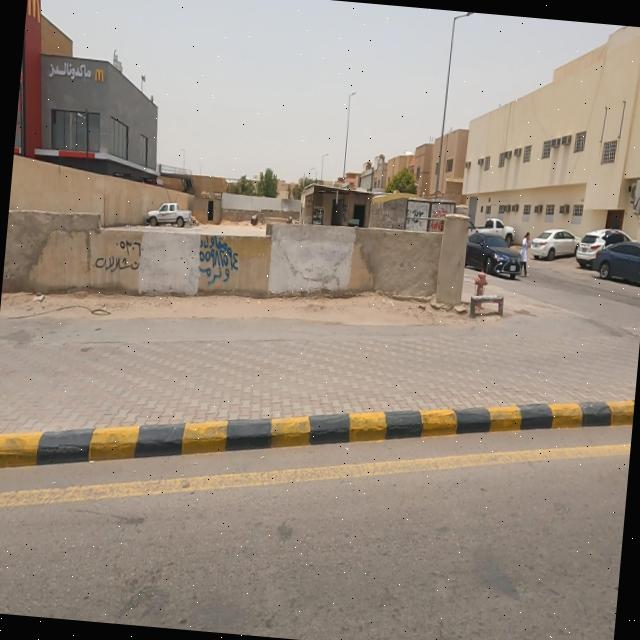Graffiti: (197, 234, 241, 289), (94, 236, 142, 277)
